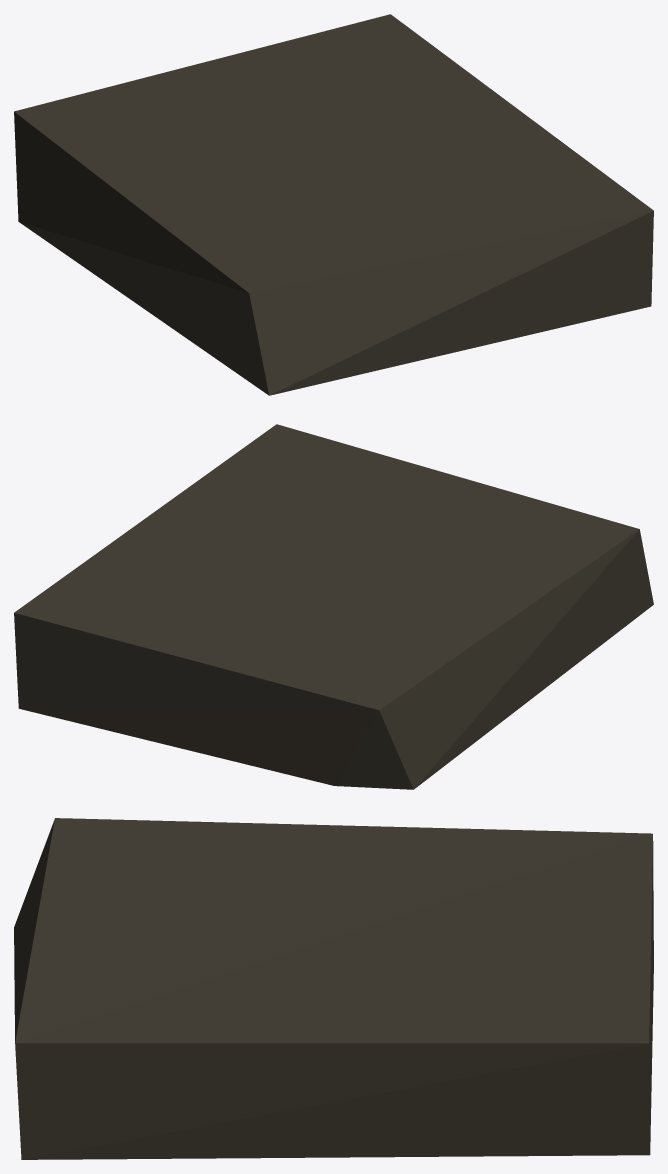
Rendered from Brick_Single_1_LOD.fbx.
3 views of the same model, one above another, from view 1: azimuth 30°, elevation 25°; view 2: azimuth 150°, elevation 25°; view 3: azimuth 270°, elevation 25° (orthographic). The views are drawn at different scales.
Parts seen in each view (by area): view 1: Group22088; view 2: Group22088; view 3: Group22088.
Boxes of the visible parts, x1,y1,x2,y2 form: Group22088: [14, 14, 653, 395]; Group22088: [14, 424, 653, 789]; Group22088: [14, 818, 653, 1159].
Bounding box in the file's own units: 1.72 × 0.4168 × 2.05.
